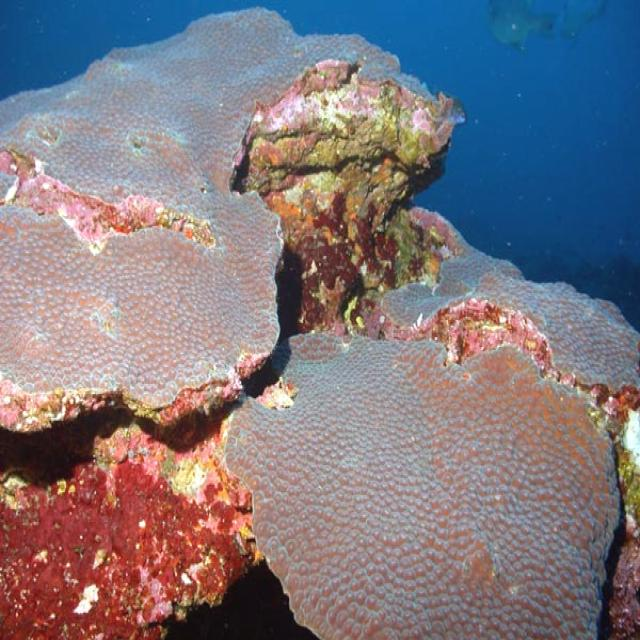Coral: (0, 8, 469, 434), (226, 332, 621, 640), (380, 204, 640, 392)
